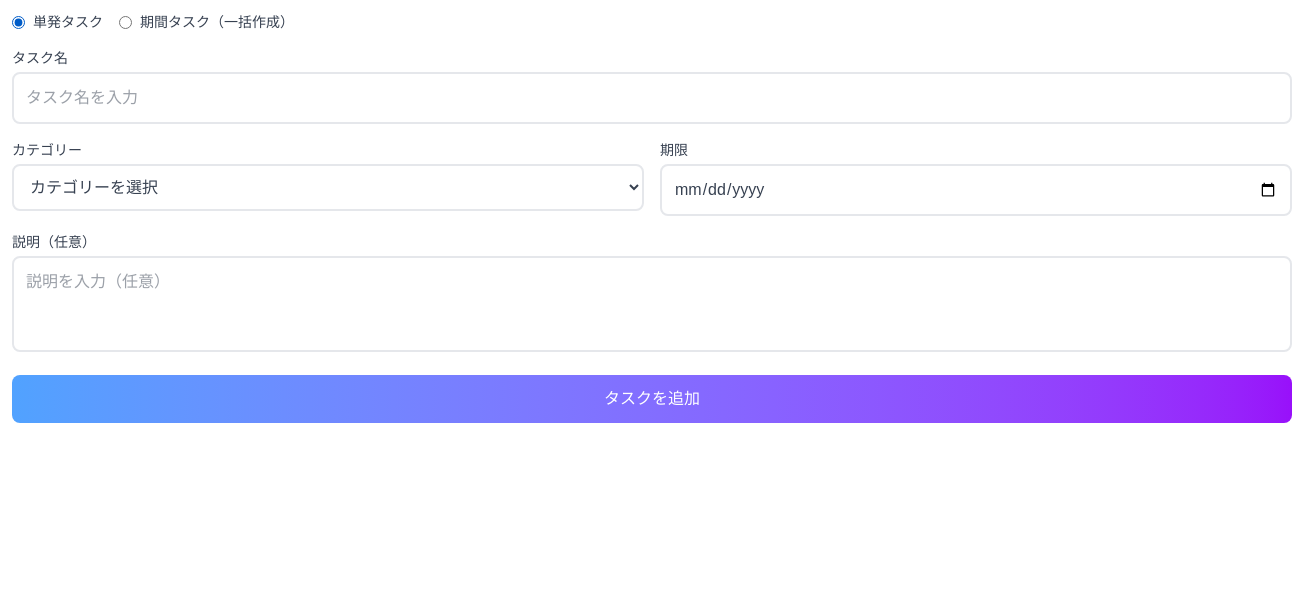
Test: タスク作成機能 › 一括作成機能 › 開始日が終了日より後の場合にエラーが表示されること
// 期間タスクモードに切り替え
Click the radio button labelled "期間タスク（一括作成）".
click(126, 22)  # box [119,16,132,28]
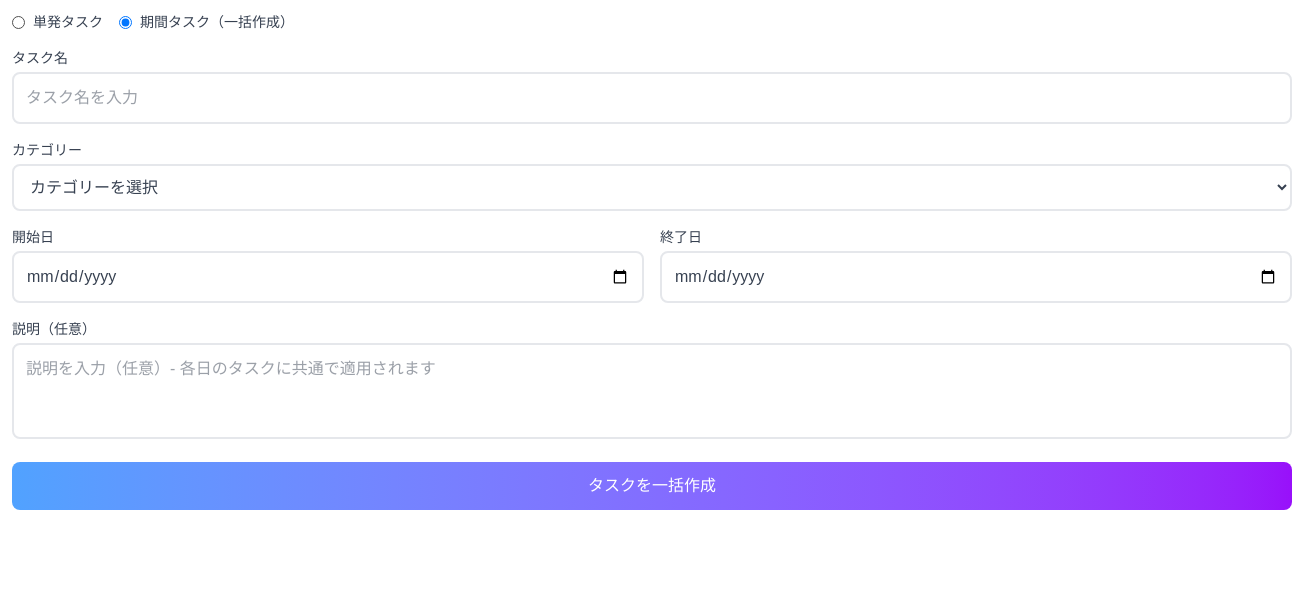
Type "毎日の単語学習" into the field labelled "タスク名".
click(652, 98); type("毎日の単語学習")  # box [12,72,1292,124]
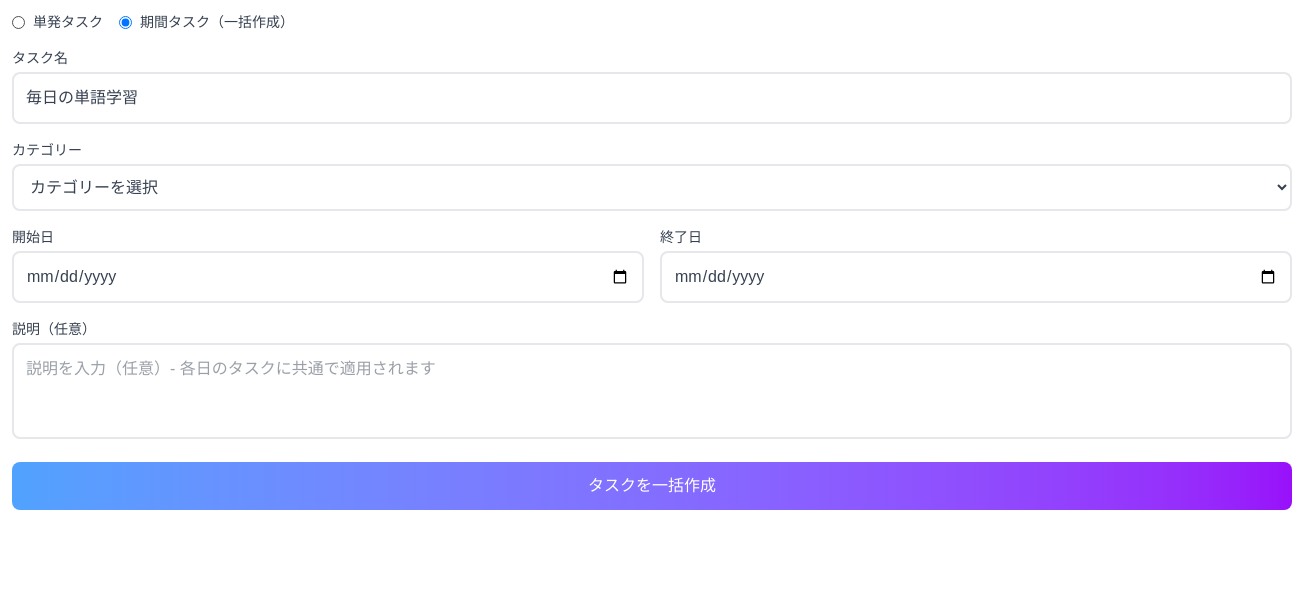
Type "2025-12-31" into the date field labelled "開始日".
click(328, 277); type("2025-12-31")  # box [12,251,644,303]
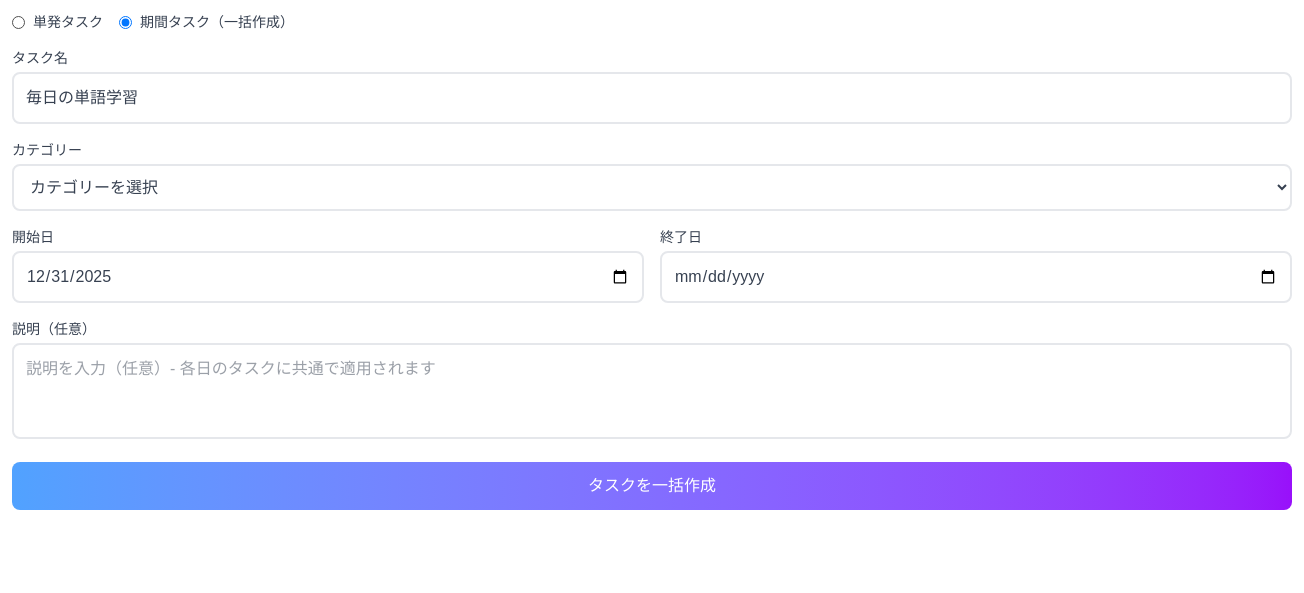
Type "2025-12-01" into the date field labelled "終了日".
click(976, 277); type("2025-12-01")  # box [660,251,1292,303]
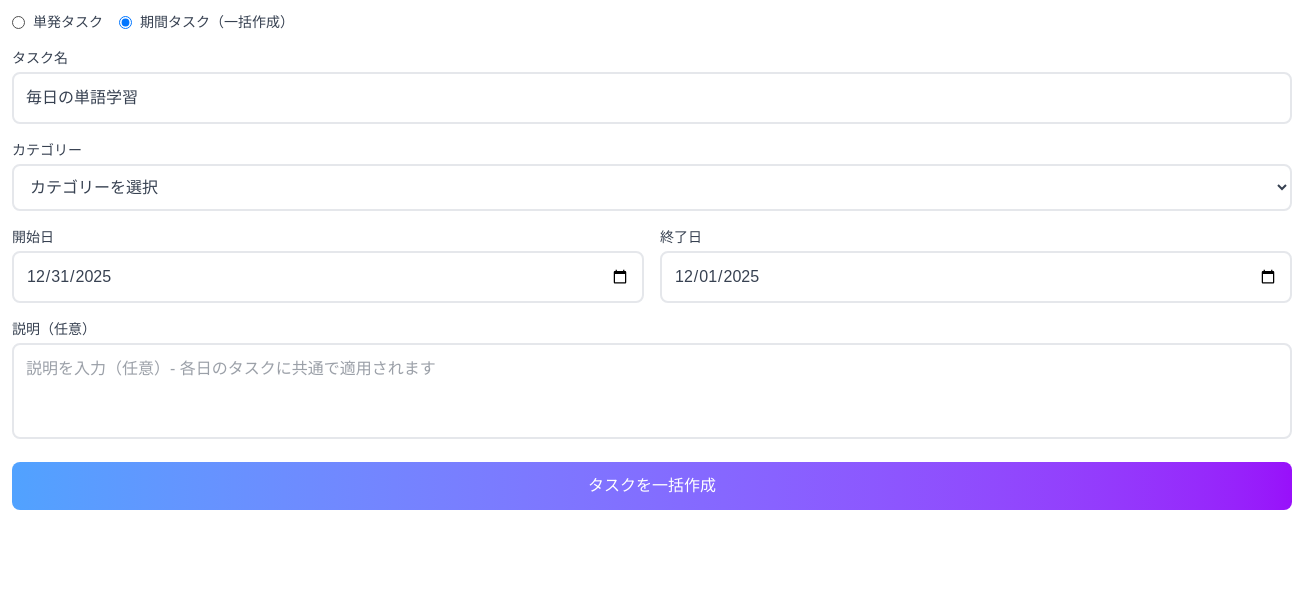
Click the button "タスクを一括作成".
click(652, 486)  # box [12,462,1292,510]
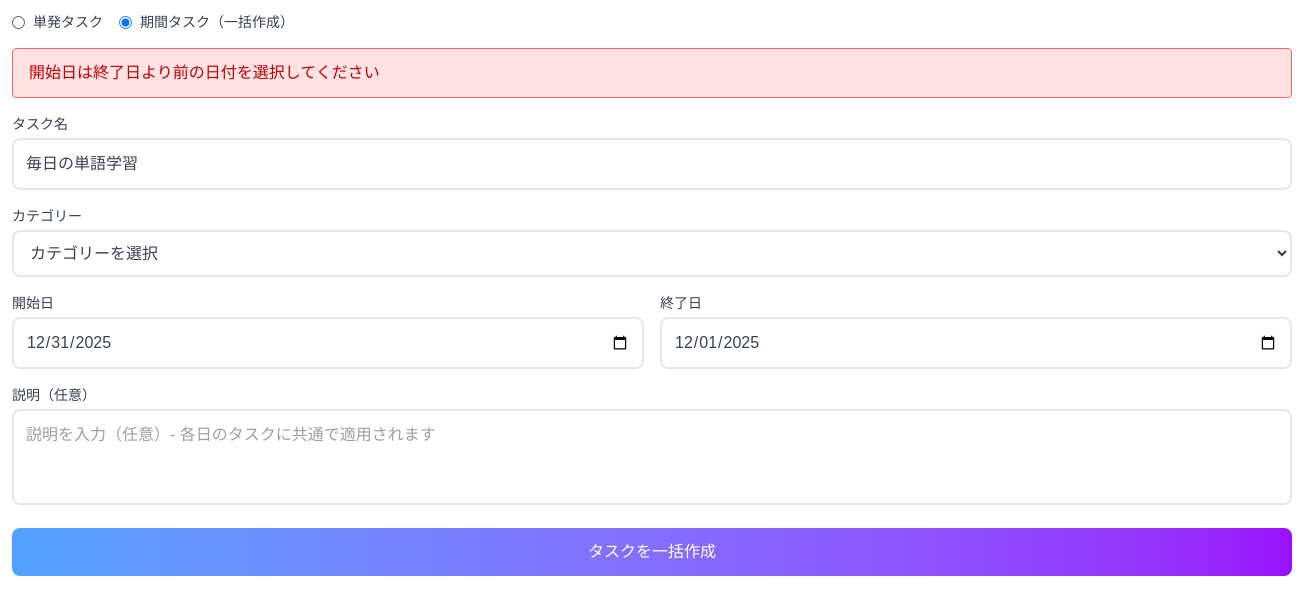
Result: the message reads "開始日は終了日より前の日付を選択してください" at [29,64,380,81]
